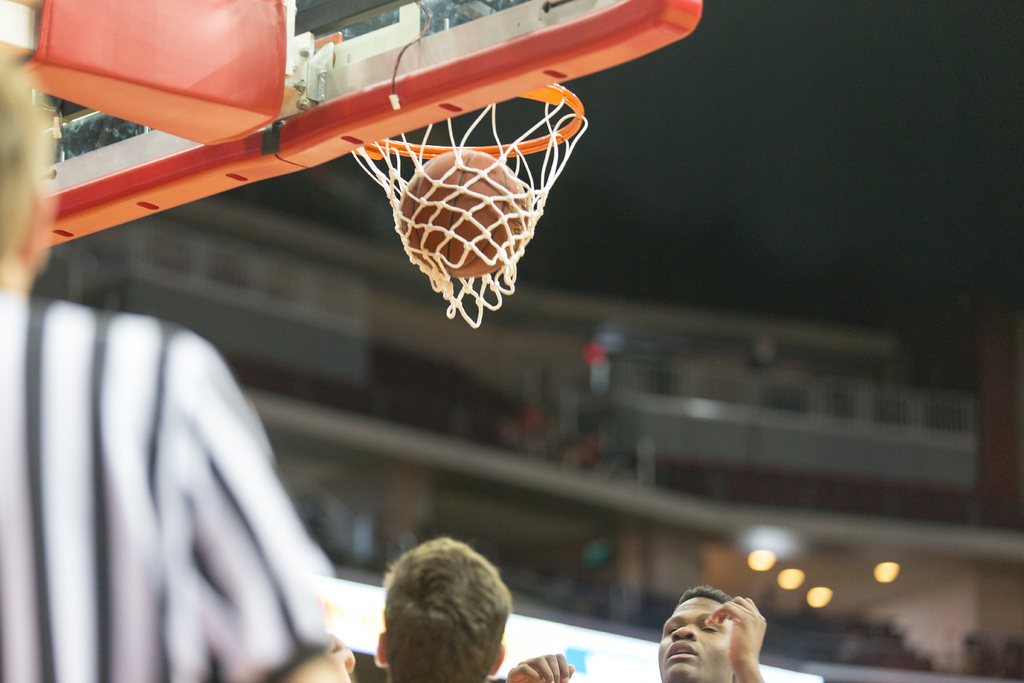Human_hand: (707, 595, 766, 657), (506, 652, 578, 682), (325, 632, 359, 682)
